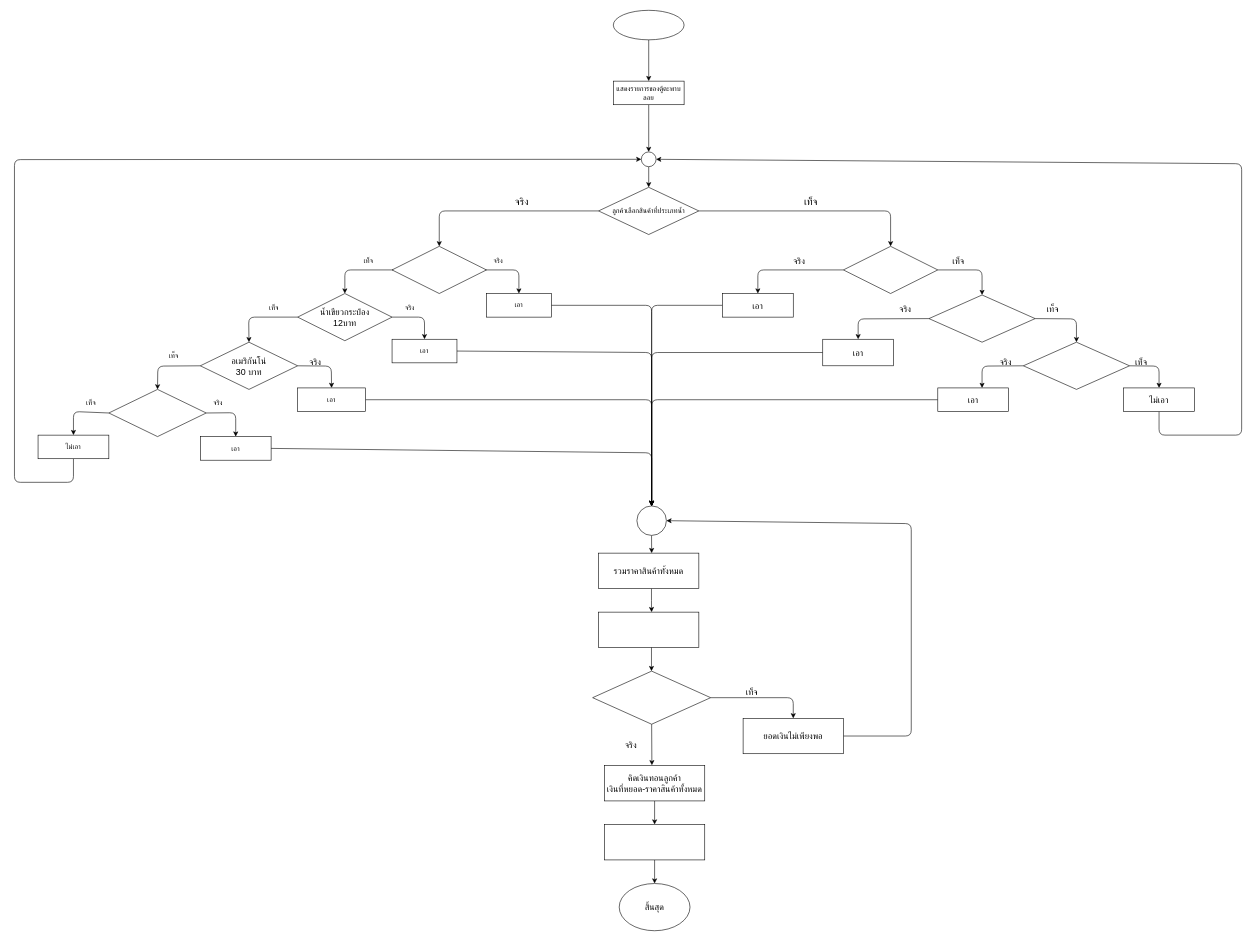
Some shapes in this 1257 by 941 pixel diagram are drawn without their labels. Here are the shapes that lost their labels. From the top down, the box of each, then its label:
(613, 10, 684, 40): เริ่มต้น
(391, 246, 486, 294): โค้กกระป๋องละ10บาท
(843, 246, 938, 294): เม็ดทานตะวัน 13บาท
(928, 294, 1035, 342): ถั่วแปป 20 บาท
(1023, 342, 1130, 389): จิ้นส้มหมก 15บาท
(108, 389, 206, 437): ลาเต้หวานเจี๊ยบ 35 บาท
(598, 612, 699, 648): ลูกค้าหยอดตู้ชำระเงิน
(592, 671, 711, 724): ยอดเงินที่หยอดใส่ตู้ ≥ราคาสินค้าทั้งหมด
(604, 824, 705, 860): ทอนเงิน
